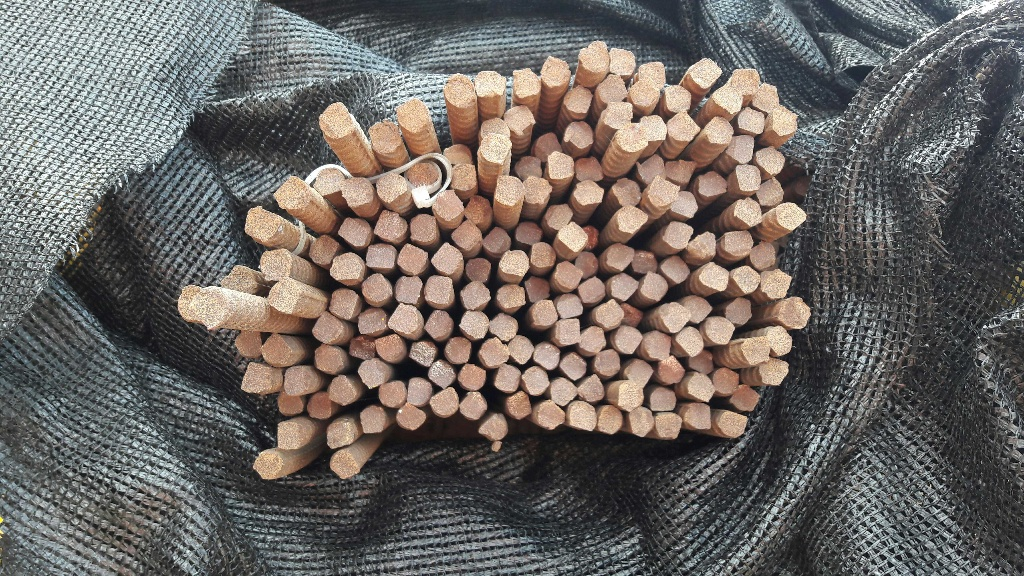dipstick: (193, 287, 227, 331), (272, 176, 310, 213), (243, 207, 280, 245), (396, 97, 431, 135), (443, 73, 478, 111), (174, 284, 204, 326), (317, 101, 351, 138), (366, 119, 399, 156), (337, 214, 368, 253), (372, 172, 407, 206), (373, 209, 407, 244), (430, 187, 463, 223), (476, 132, 513, 164), (236, 362, 273, 394), (308, 235, 341, 270), (612, 205, 650, 235), (474, 69, 508, 102), (561, 119, 595, 152), (259, 333, 292, 367), (387, 303, 420, 337), (779, 296, 812, 330), (405, 157, 440, 189), (578, 39, 610, 74), (266, 280, 297, 316), (686, 58, 722, 89), (223, 265, 256, 298), (430, 242, 463, 275), (329, 252, 363, 284), (310, 312, 344, 344), (338, 177, 373, 208), (310, 343, 345, 374), (666, 111, 701, 142), (494, 173, 524, 209), (504, 103, 537, 135), (397, 243, 429, 276), (458, 280, 491, 312), (658, 301, 690, 334), (703, 315, 736, 347), (407, 211, 438, 245), (421, 309, 452, 343), (257, 250, 292, 280), (392, 271, 422, 306), (520, 175, 552, 207), (487, 310, 519, 342), (702, 116, 734, 148), (698, 262, 730, 294), (510, 68, 543, 99), (313, 166, 344, 199), (539, 55, 572, 86), (481, 224, 512, 257), (252, 451, 285, 482), (328, 450, 361, 481), (695, 169, 728, 200), (648, 176, 681, 207), (721, 229, 752, 262), (424, 274, 454, 308), (359, 274, 391, 305), (326, 374, 357, 406), (711, 86, 743, 117), (754, 145, 786, 176), (716, 409, 748, 440), (764, 325, 796, 356), (758, 355, 789, 387), (774, 201, 807, 231), (597, 403, 626, 437), (613, 123, 648, 151), (323, 419, 354, 450), (495, 282, 526, 313), (635, 153, 666, 184), (731, 163, 762, 194), (733, 196, 764, 227), (761, 268, 792, 299), (741, 335, 772, 366), (449, 163, 479, 195), (365, 243, 397, 273), (450, 219, 482, 249), (231, 329, 263, 359), (326, 289, 358, 319), (356, 357, 386, 389), (531, 339, 561, 371), (598, 73, 628, 105), (640, 270, 670, 302), (683, 293, 713, 325), (614, 325, 644, 357), (616, 379, 646, 411), (650, 412, 682, 442), (681, 401, 713, 431), (442, 139, 475, 168), (464, 194, 493, 227), (358, 404, 387, 437), (549, 376, 578, 409), (508, 332, 534, 368), (512, 152, 543, 182), (457, 311, 488, 341), (491, 363, 522, 393), (558, 351, 589, 381), (628, 78, 659, 108), (731, 67, 761, 98), (558, 221, 588, 252), (689, 231, 719, 262), (609, 271, 640, 301), (731, 263, 761, 294), (724, 295, 754, 326), (280, 365, 309, 397), (273, 420, 305, 449), (429, 387, 458, 419), (478, 338, 510, 367), (537, 400, 566, 432), (568, 401, 597, 433), (640, 330, 672, 359), (623, 357, 655, 386), (732, 383, 761, 415), (601, 100, 634, 128), (628, 405, 654, 440), (576, 326, 606, 356), (499, 249, 530, 278), (304, 391, 333, 422), (395, 402, 426, 431), (477, 413, 508, 442), (521, 365, 550, 396), (611, 177, 642, 206), (603, 243, 634, 272), (458, 390, 486, 422), (659, 255, 691, 283), (687, 370, 715, 402), (478, 115, 512, 141), (564, 85, 593, 115), (523, 273, 553, 302), (663, 84, 693, 113), (512, 217, 543, 245), (357, 308, 388, 336), (530, 298, 558, 329), (635, 61, 666, 89), (752, 83, 780, 114), (663, 220, 694, 248), (657, 355, 685, 386), (405, 376, 432, 408), (506, 389, 533, 421), (608, 46, 635, 78), (578, 374, 604, 407), (773, 105, 799, 138), (377, 381, 406, 410), (443, 335, 472, 364), (737, 107, 766, 136), (756, 177, 785, 206), (533, 131, 563, 159), (548, 151, 576, 181), (555, 260, 583, 290), (638, 114, 668, 142), (671, 190, 699, 220), (543, 202, 574, 229), (556, 317, 583, 348), (574, 155, 605, 182), (676, 326, 703, 357), (572, 181, 604, 207), (664, 160, 697, 185), (428, 360, 456, 389), (594, 299, 622, 328), (594, 348, 622, 377), (463, 256, 493, 283), (347, 334, 377, 361), (457, 364, 487, 391), (555, 292, 585, 319), (728, 134, 755, 164), (713, 366, 740, 396), (409, 338, 434, 370), (374, 334, 402, 362), (750, 241, 777, 270), (648, 386, 677, 413), (273, 392, 305, 416), (578, 277, 606, 304), (687, 348, 716, 374), (632, 249, 659, 276), (530, 242, 556, 270), (576, 250, 600, 279), (621, 299, 644, 328), (581, 223, 602, 250)
